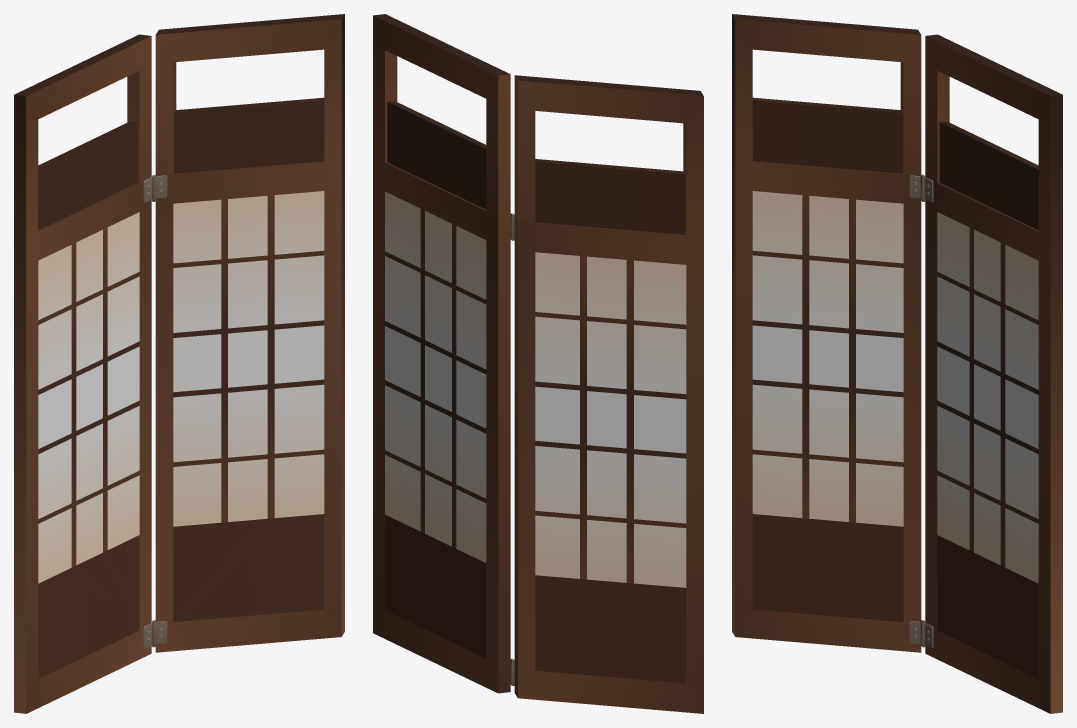
The model's file is SK_Partition_001.FBX.
3 views of the same model, side by side, from view 1: azimuth 30°, elevation 25°; view 2: azimuth 150°, elevation 25°; view 3: azimuth 330°, elevation 25° (orthographic).
Parts seen in each view (by area): view 1: SK_Partition_001; view 2: SK_Partition_001; view 3: SK_Partition_001.
Part boxes in pixels (box(x1,y1,x2,y2)): SK_Partition_001: box(14, 14, 344, 713); SK_Partition_001: box(373, 14, 703, 713); SK_Partition_001: box(732, 14, 1062, 713).
Bounding box in the file's own units: 76.15 × 136 × 13.95.
Materials: 1 (1 with a texture image).
